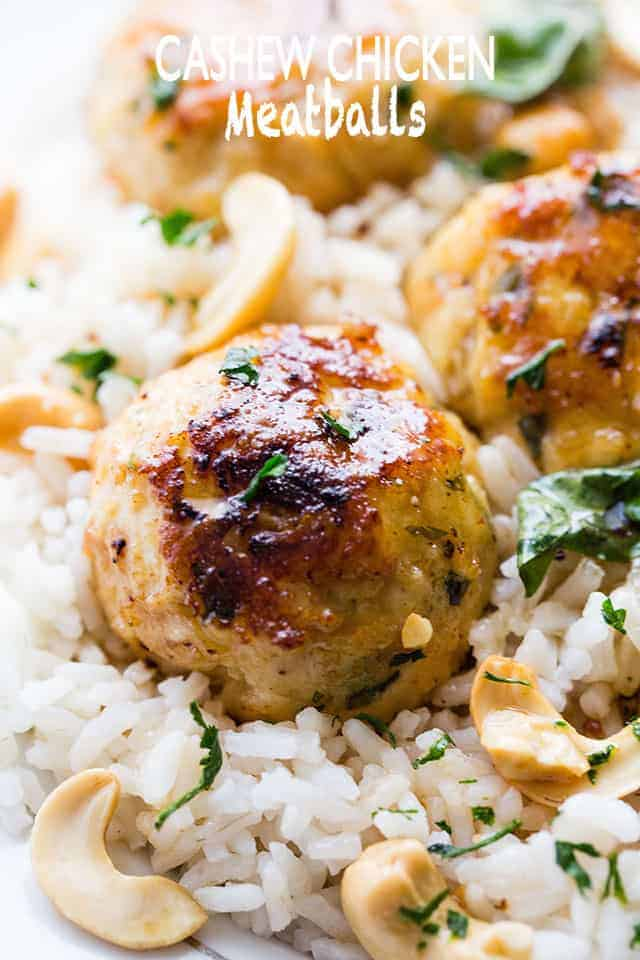meatballs: (93, 332, 484, 699), (422, 173, 640, 460)
plain rice: (32, 700, 635, 955)
